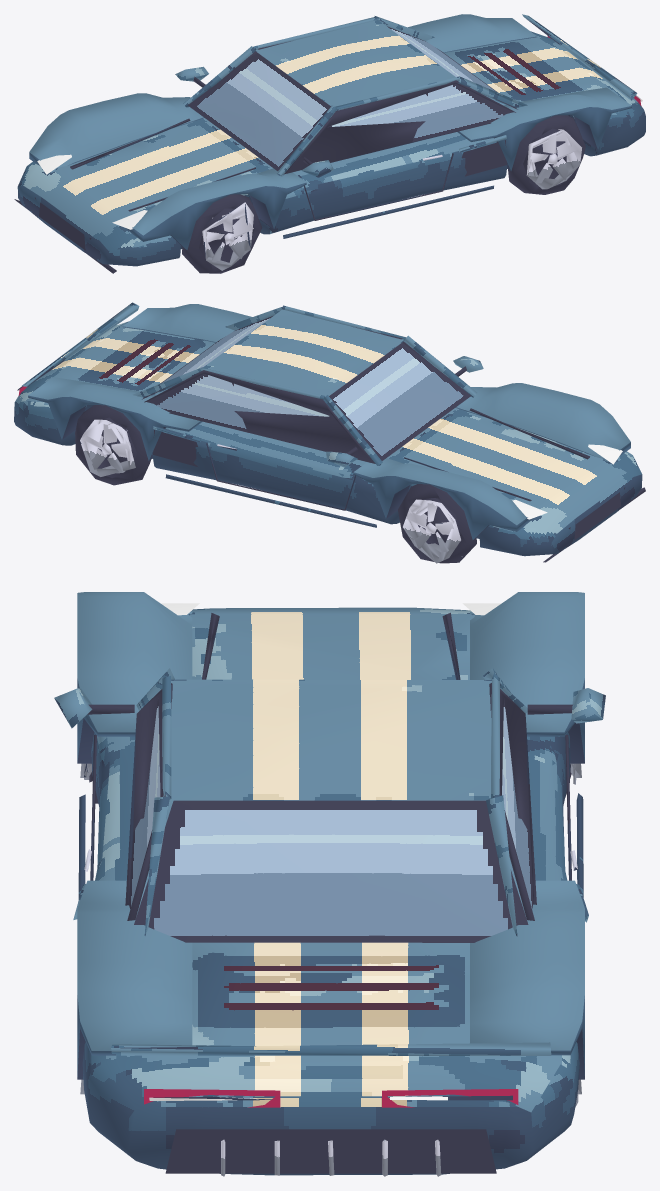
3 views of the same model, one above another, from view 1: azimuth 30°, elevation 25°; view 2: azimuth 150°, elevation 25°; view 3: azimuth 270°, elevation 25° (orthographic). The views are drawn at different scales.
Visible parts, largest first — view 1: Body_static, Wheel_RL_tire_hub, Wheel_FL_tire_hub; view 2: Body_static, Wheel_RR_tire_hub, Wheel_FR_tire_hub; view 3: Body_static.
Boxes of the visible parts, x1=… form: Body_static: x1=14, y1=14, x2=645, y2=273; Wheel_RL_tire_hub: x1=508, y1=115, x2=585, y2=194; Wheel_FL_tire_hub: x1=182, y1=194, x2=262, y2=273; Body_static: x1=14, y1=302, x2=645, y2=562; Wheel_RR_tire_hub: x1=75, y1=405, x2=150, y2=485; Wheel_FR_tire_hub: x1=398, y1=484, x2=476, y2=563; Body_static: x1=54, y1=592, x2=605, y2=1176.
Size of the model in its own units: 81.02 by 18.61 by 35.93.
Materials: 1 (1 with a texture image).
